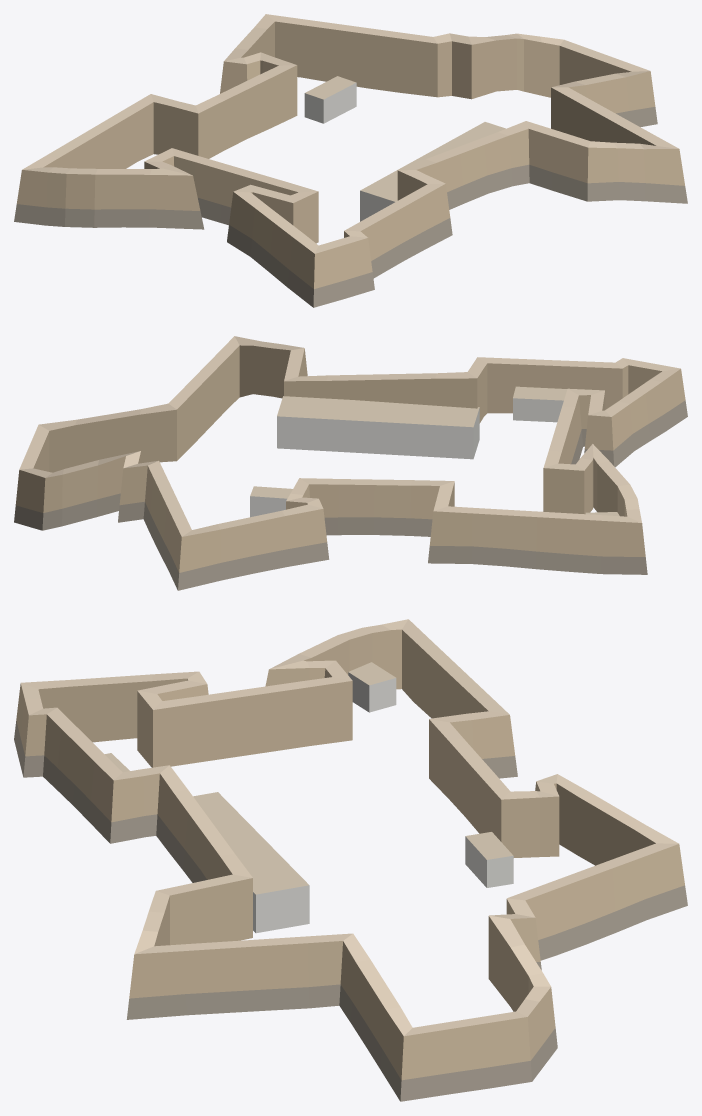
Rendered from mombasa-far.glb.
The picture shows the model from 3 angles, top to bottom: view 1: azimuth 30°, elevation 25°; view 2: azimuth 150°, elevation 25°; view 3: azimuth 270°, elevation 25°; orthographic projection. The views are drawn at different scales.
Parts seen in each view (by area): view 1: mombasa_far; view 2: mombasa_far; view 3: mombasa_far.
Boxes of the visible parts, left/top/right/bottom form: mombasa_far: left=14, top=14, right=687, bottom=307; mombasa_far: left=14, top=336, right=687, bottom=590; mombasa_far: left=14, top=619, right=687, bottom=1101.
Size of the model in its own units: 172 by 30.93 by 135.
